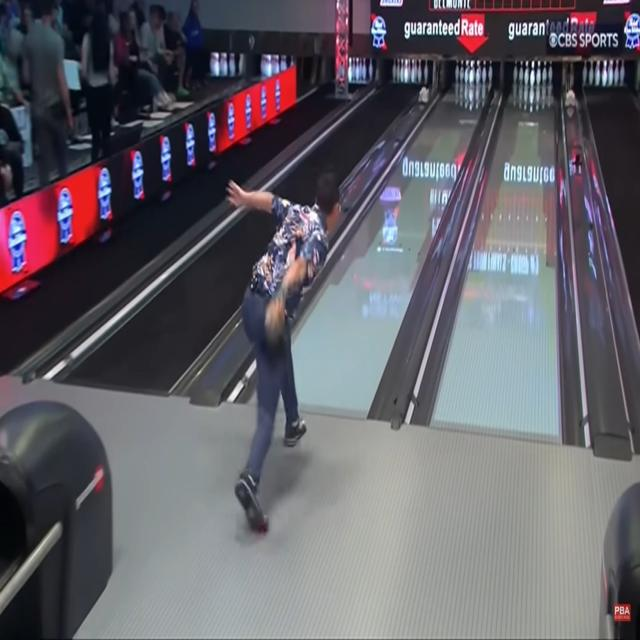alley: (292, 82, 492, 416)
balls: (258, 317, 288, 368)
bottle: (454, 57, 493, 88)
